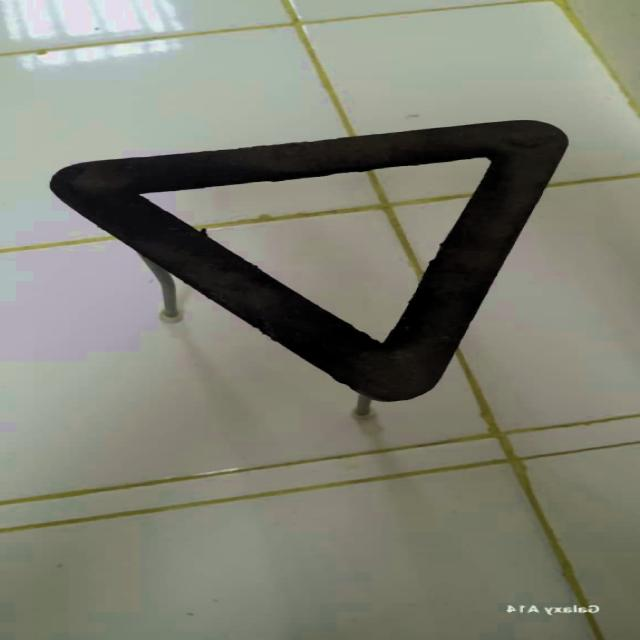Stand: (47, 119, 590, 424)
